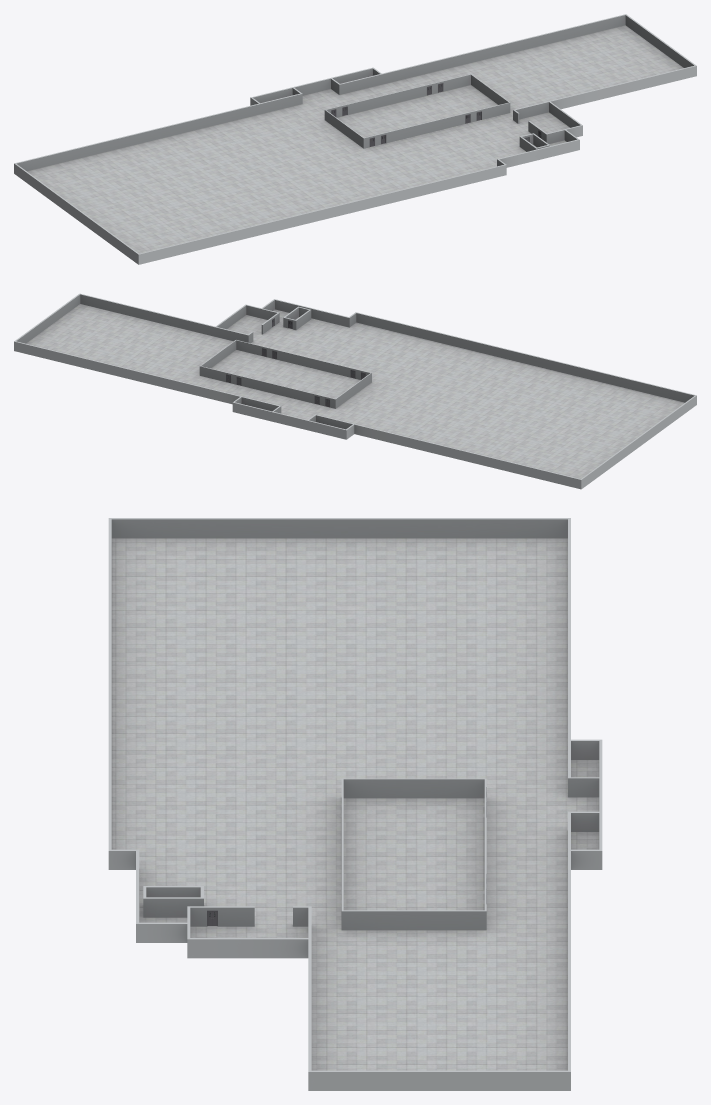
The model's file is LXWZ_3-4F.glb.
3 renders of one model, top to bottom at view 1: azimuth 30°, elevation 25°; view 2: azimuth 150°, elevation 25°; view 3: azimuth 270°, elevation 25°, orthographic. The views are drawn at different scales.
Bounding box in the file's own units: 139 × 2.23 × 52.51.
Materials: 1 (1 with a texture image).
